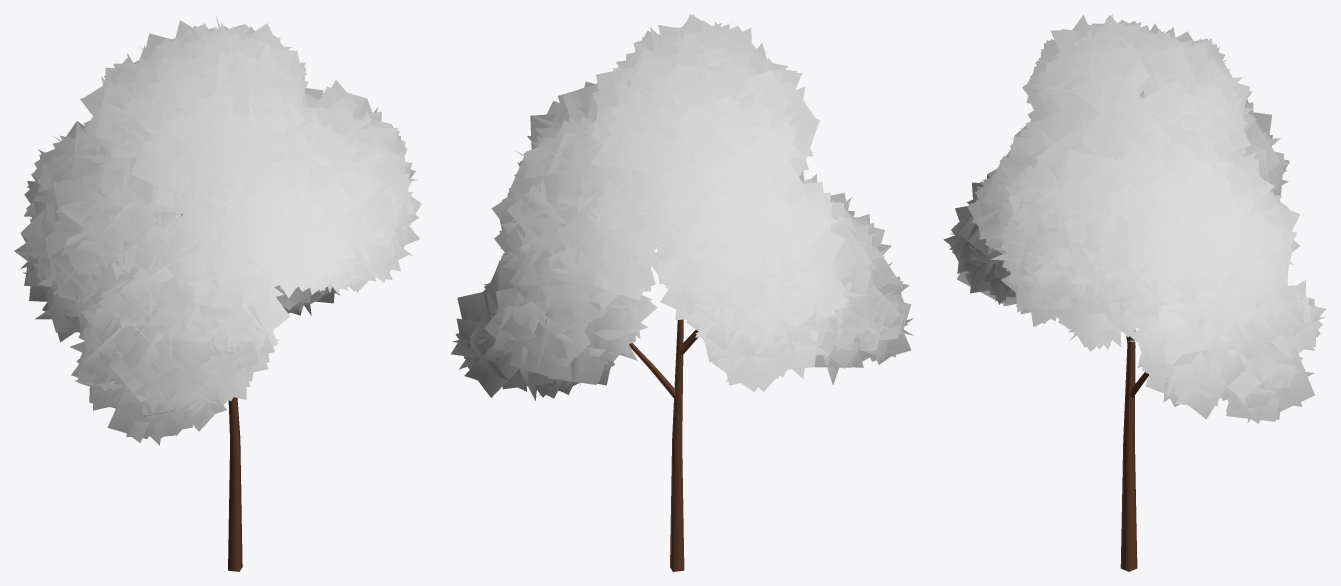
File: T1Tree5.fbx
The picture shows the model from 3 angles, left to right: view 1: azimuth 30°, elevation 25°; view 2: azimuth 150°, elevation 25°; view 3: azimuth 270°, elevation 25°; orthographic projection.
Visible parts, largest first — view 1: Leaves_1.5B, Leaves_1.5A, Bark_1.5; view 2: Leaves_1.5A, Leaves_1.5B, Bark_1.5; view 3: Leaves_1.5A, Leaves_1.5B, Bark_1.5.
Part boxes in pixels (x1,y1,x2,y2): Leaves_1.5B: (14,15,421,445); Leaves_1.5A: (17,23,419,438); Bark_1.5: (228,397,242,571); Leaves_1.5A: (451,14,913,400); Leaves_1.5B: (452,14,913,398); Bark_1.5: (629,319,698,571); Leaves_1.5A: (943,14,1322,423); Leaves_1.5B: (950,15,1326,417); Bark_1.5: (1120,330,1148,571).
Bounding box in the file's own units: 4.96 × 7.24 × 4.64.
